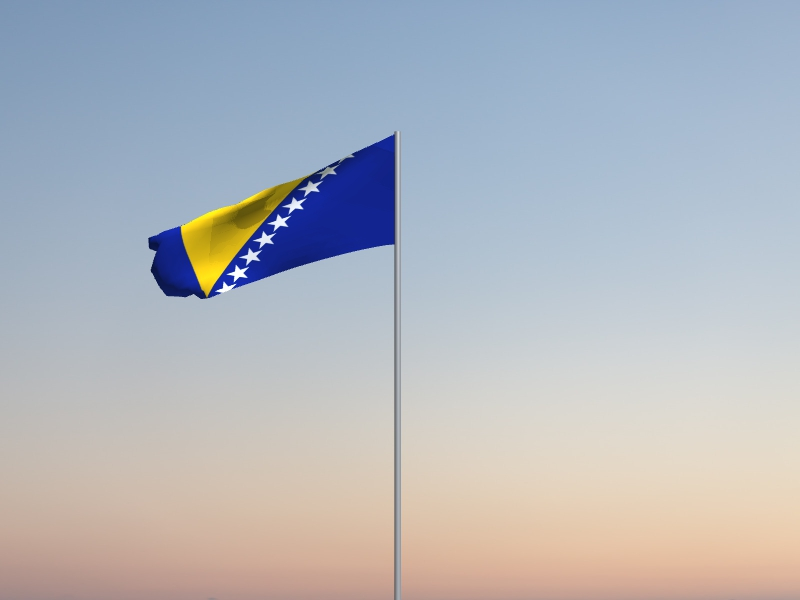ba: (147, 134, 395, 301)
